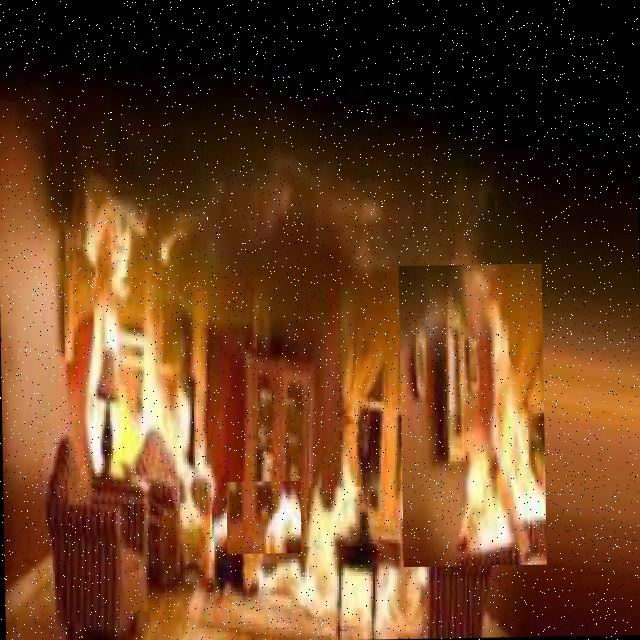fire: (398, 264, 546, 566), (65, 276, 186, 504), (226, 481, 301, 554), (297, 486, 362, 546)
